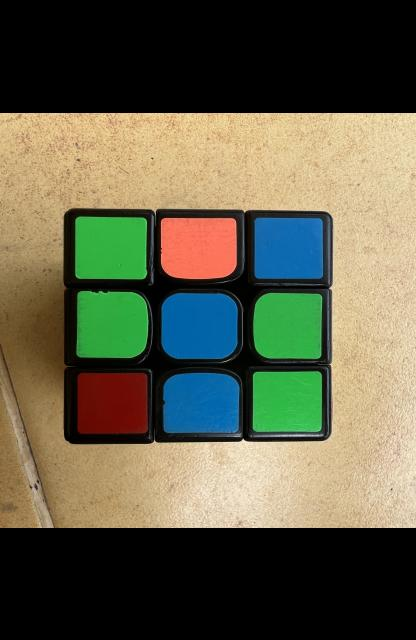Blue: (162, 292, 238, 358), (163, 372, 239, 432), (254, 217, 323, 278)
Green: (77, 290, 148, 357), (253, 292, 322, 358), (76, 215, 147, 278), (253, 371, 322, 430)
Orange: (160, 217, 237, 278)
Red: (77, 372, 148, 433)
